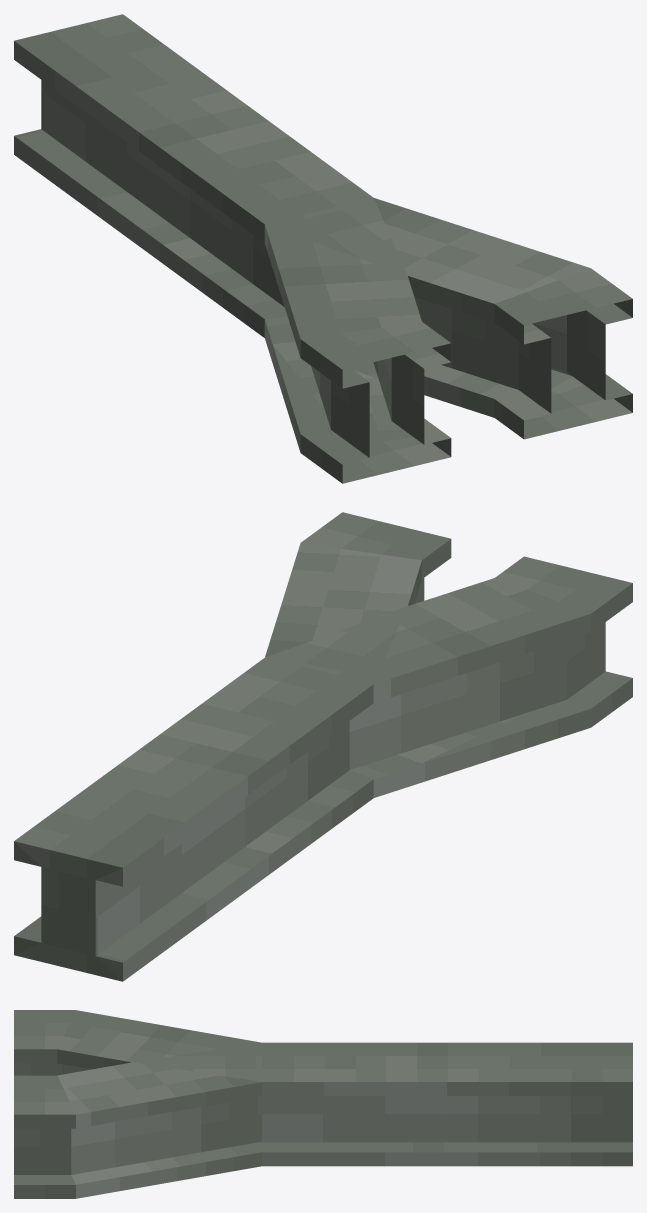
File: power_line_bracket_on_wall2.obj
3 views of the same model, one above another, from view 1: azimuth 30°, elevation 25°; view 2: azimuth 150°, elevation 25°; view 3: azimuth 270°, elevation 25° (orthographic). The views are drawn at different scales.
Visible parts, largest first — view 1: b3.004; view 2: b3.004; view 3: b3.004.
Part boxes in pixels (box(x1,y1,x2,y2)): b3.004: box(14, 14, 632, 483); b3.004: box(14, 512, 632, 981); b3.004: box(14, 1010, 632, 1198).
Bounding box in the file's own units: 0.5 × 0.1875 × 1.25.
